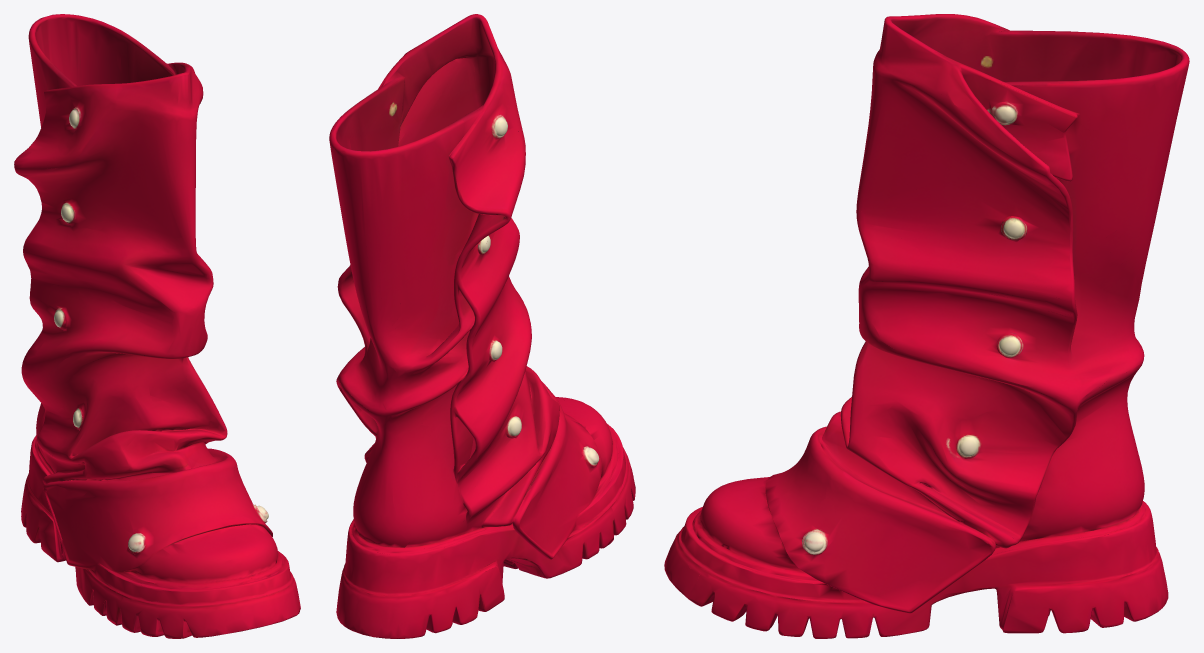
The model's file is HarbingersBoot.glb.
The picture shows the model from 3 angles, left to right: view 1: azimuth 30°, elevation 25°; view 2: azimuth 150°, elevation 25°; view 3: azimuth 270°, elevation 25°; orthographic projection. The views are drawn at different scales.
Parts seen in each view (by area): view 1: node_0; view 2: node_0; view 3: node_0.
Boxes of the visible parts, x1=… form: node_0: x1=14, y1=14, x2=300, y2=638; node_0: x1=329, y1=14, x2=635, y2=638; node_0: x1=664, y1=14, x2=1189, y2=638.
Bounding box in the file's own units: 0.3381 × 0.9707 × 0.7842.
Materials: 1 (1 with a texture image).
